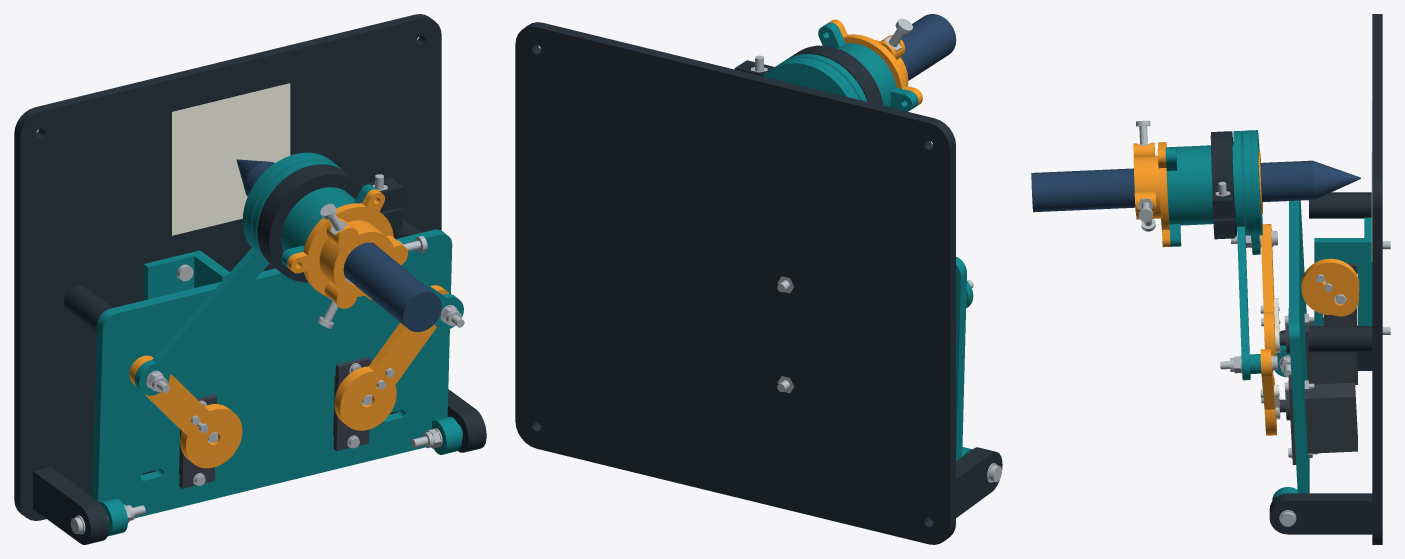
File: pencil-plotter-pen-up.glb
3 views of the same model, side by side, from view 1: azimuth 30°, elevation 25°; view 2: azimuth 150°, elevation 25°; view 3: azimuth 270°, elevation 25° (orthographic). The views are drawn at different scales.
Visible parts, largest first — view 1: Base-1, Tilting_Deck-1, Paper-1, Floating_Tool_Carriage-1, Pen_15mm_Reference-1, Distal_Arm-1, Sleeve_Retaining_Collar-1, Upper_Arm-2, Upper_Arm-1, Joint_Guide_Sleeve-1, Lift_Servo_Bracket-1, Distal_Arm-2 (+2 smaller); view 2: Base-1, Joint_Guide_Sleeve-1, Pen_15mm_Reference-1, Tilting_Deck-1, Sleeve_Retaining_Collar-1, Floating_Tool_Carriage-1, Distal_Arm-1; view 3: Base-1, Pen_15mm_Reference-1, Joint_Guide_Sleeve-1, Tilting_Deck-1, MG90S_Reference-3, Floating_Tool_Carriage-1, Lift_Servo_Bracket-1, Lift_Cam-1, Sleeve_Retaining_Collar-1, Distal_Arm-2, MG90S_Reference-2, Upper_Arm-1 (+3 smaller).
Boxes of the visible parts, x1,y1,x2,y2 form: Base-1: [14, 14, 486, 544]; Tilting_Deck-1: [92, 229, 461, 536]; Paper-1: [172, 83, 290, 235]; Floating_Tool_Carriage-1: [287, 189, 407, 308]; Pen_15mm_Reference-1: [236, 159, 441, 332]; Distal_Arm-1: [134, 155, 337, 395]; Sleeve_Retaining_Collar-1: [257, 164, 403, 282]; Upper_Arm-2: [334, 285, 449, 430]; Upper_Arm-1: [129, 355, 242, 468]; Joint_Guide_Sleeve-1: [242, 152, 377, 267]; Lift_Servo_Bracket-1: [143, 250, 229, 300]; Distal_Arm-2: [252, 160, 463, 329]; Base-1: [515, 22, 1002, 544]; Joint_Guide_Sleeve-1: [763, 22, 918, 111]; Pen_15mm_Reference-1: [901, 14, 956, 80]; Tilting_Deck-1: [956, 256, 971, 460]; Sleeve_Retaining_Collar-1: [734, 45, 883, 105]; Floating_Tool_Carriage-1: [828, 19, 922, 105]; Distal_Arm-1: [778, 57, 973, 308]; Base-1: [1269, 14, 1382, 544]; Pen_15mm_Reference-1: [1031, 160, 1360, 212]; Joint_Guide_Sleeve-1: [1165, 130, 1262, 246]; Tilting_Deck-1: [1272, 200, 1309, 500]; MG90S_Reference-3: [1279, 374, 1357, 464]; Floating_Tool_Carriage-1: [1133, 142, 1262, 247]; Lift_Servo_Bracket-1: [1314, 217, 1372, 325]; Lift_Cam-1: [1301, 258, 1359, 316]; Sleeve_Retaining_Collar-1: [1210, 131, 1236, 239]; Distal_Arm-2: [1233, 131, 1250, 380]; MG90S_Reference-2: [1279, 308, 1357, 384]; Upper_Arm-1: [1260, 224, 1276, 355].
Size of the model in its own units: 0.164 by 0.152 by 0.1365.
